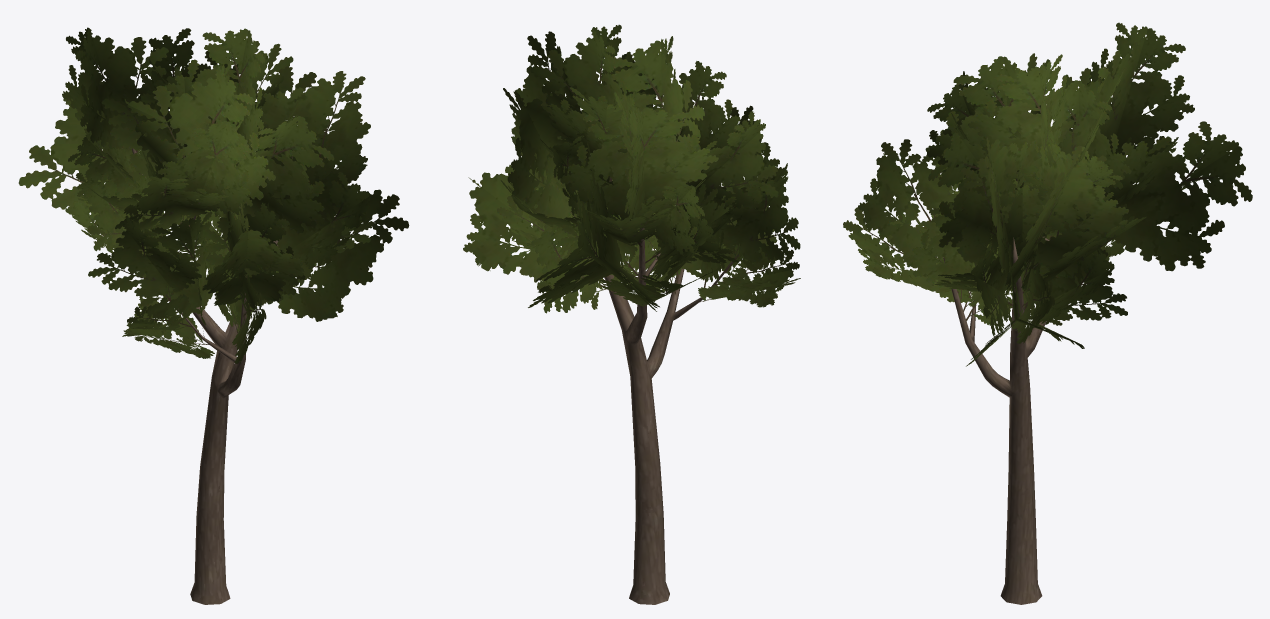
3 renders of one model, left to right at view 1: azimuth 30°, elevation 25°; view 2: azimuth 150°, elevation 25°; view 3: azimuth 270°, elevation 25°, orthographic. The views are drawn at different scales.
Parts seen in each view (by area): view 1: body0_model0_lod0_mesh0; view 2: body0_model0_lod0_mesh0; view 3: body0_model0_lod0_mesh0.
Boxes of the visible parts, box(x1,y1,x2,y2) form: body0_model0_lod0_mesh0: box(18, 27, 409, 604); body0_model0_lod0_mesh0: box(463, 24, 800, 604); body0_model0_lod0_mesh0: box(843, 22, 1252, 604).
Bounding box in the file's own units: 241 × 404 × 268.
1 material, 1 textured.
